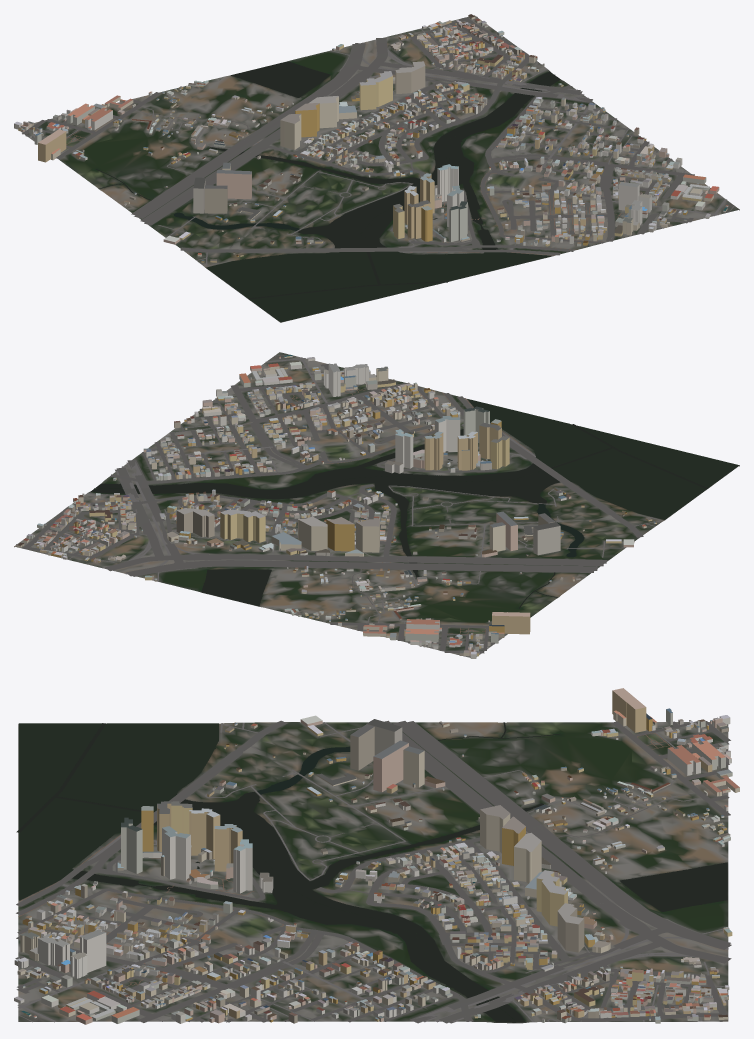
3 views of the same model, one above another, from view 1: azimuth 30°, elevation 25°; view 2: azimuth 150°, elevation 25°; view 3: azimuth 270°, elevation 25° (orthographic). The views are drawn at different scales.
Parts seen in each view (by area): view 1: ground, buildings, roads, water; view 2: ground, buildings, roads, water; view 3: ground, buildings, roads, water.
Part boxes in pixels (box(x1,y1,x2,y2)): ground: box(21, 15, 739, 322); buildings: box(14, 14, 728, 262); roads: box(22, 17, 734, 266); water: box(95, 61, 560, 322); ground: box(14, 352, 739, 657); buildings: box(17, 355, 656, 658); roads: box(16, 354, 663, 653); water: box(90, 399, 738, 608); ground: box(18, 722, 728, 1023); buildings: box(14, 688, 739, 1024); roads: box(15, 720, 731, 1023); water: box(16, 722, 727, 1023).
Bounding box in the file's own units: 1463 × 96.77 × 1432.
